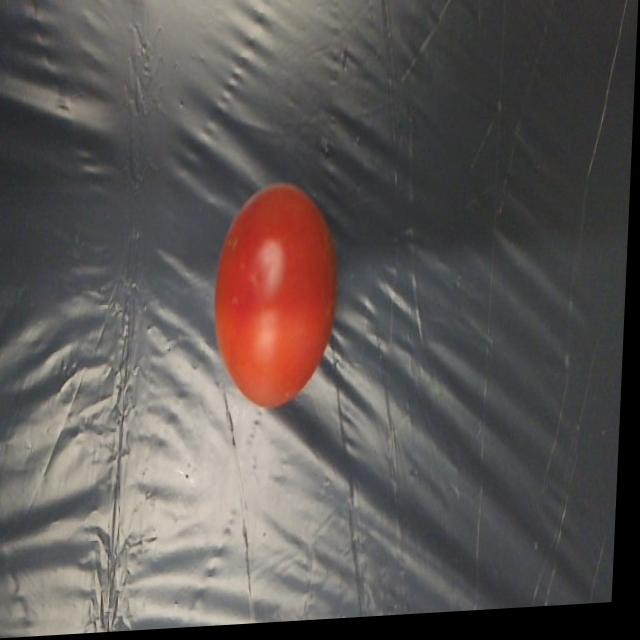kirmizi: (194, 149, 353, 410)
